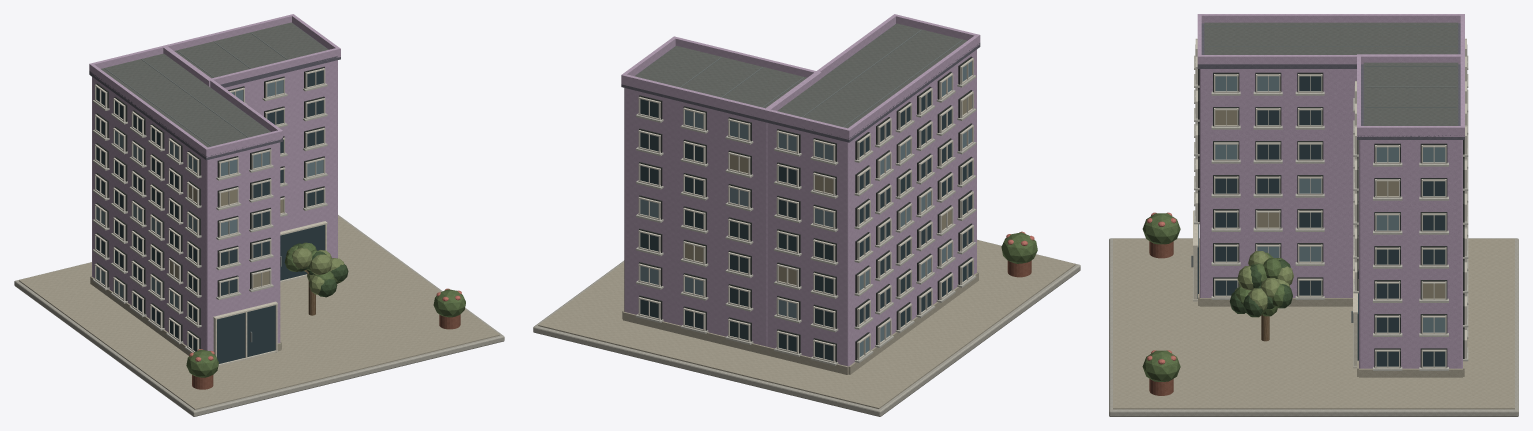
The model's file is EXP_PALAZZO_CORNER.glb.
The picture shows the model from 3 angles, left to right: view 1: azimuth 30°, elevation 25°; view 2: azimuth 150°, elevation 25°; view 3: azimuth 270°, elevation 25°; orthographic projection. The views are drawn at different scales.
Parts seen in each view (by area): view 1: EXP_PALAZZO_CORNER_Visual; view 2: EXP_PALAZZO_CORNER_Visual; view 3: EXP_PALAZZO_CORNER_Visual.
Part boxes in pixels (box(x1,y1,x2,y2)): EXP_PALAZZO_CORNER_Visual: box(14, 14, 504, 416); EXP_PALAZZO_CORNER_Visual: box(533, 14, 1080, 416); EXP_PALAZZO_CORNER_Visual: box(1109, 14, 1518, 416).
Size of what is drawn, in the model's own units: 5.92 by 4.12 by 5.92.
19 materials, 13 textured.
